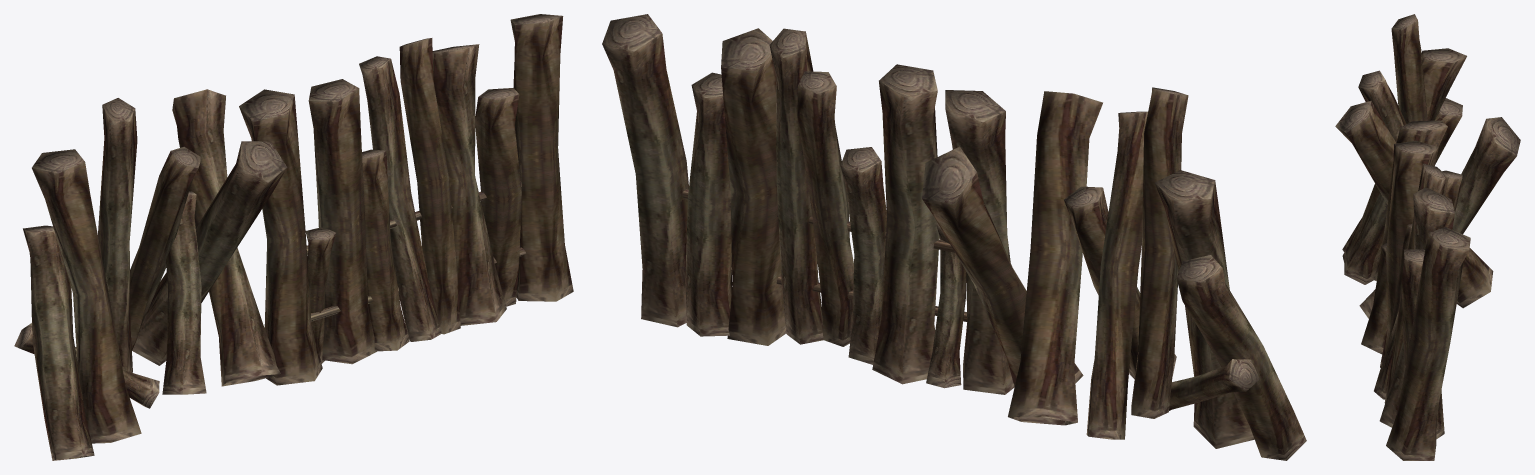
File: mulan01.FBX
3 views of the same model, side by side, from view 1: azimuth 30°, elevation 25°; view 2: azimuth 150°, elevation 25°; view 3: azimuth 270°, elevation 25° (orthographic). The views are drawn at different scales.
Parts seen in each view (by area): view 1: mulan01; view 2: mulan01; view 3: mulan01.
Boxes of the visible parts, x1,y1,x2,y2 form: mulan01: [14, 14, 573, 460]; mulan01: [602, 14, 1306, 460]; mulan01: [1335, 14, 1520, 460].
Size of the model in its own units: 958 by 533 by 322.
